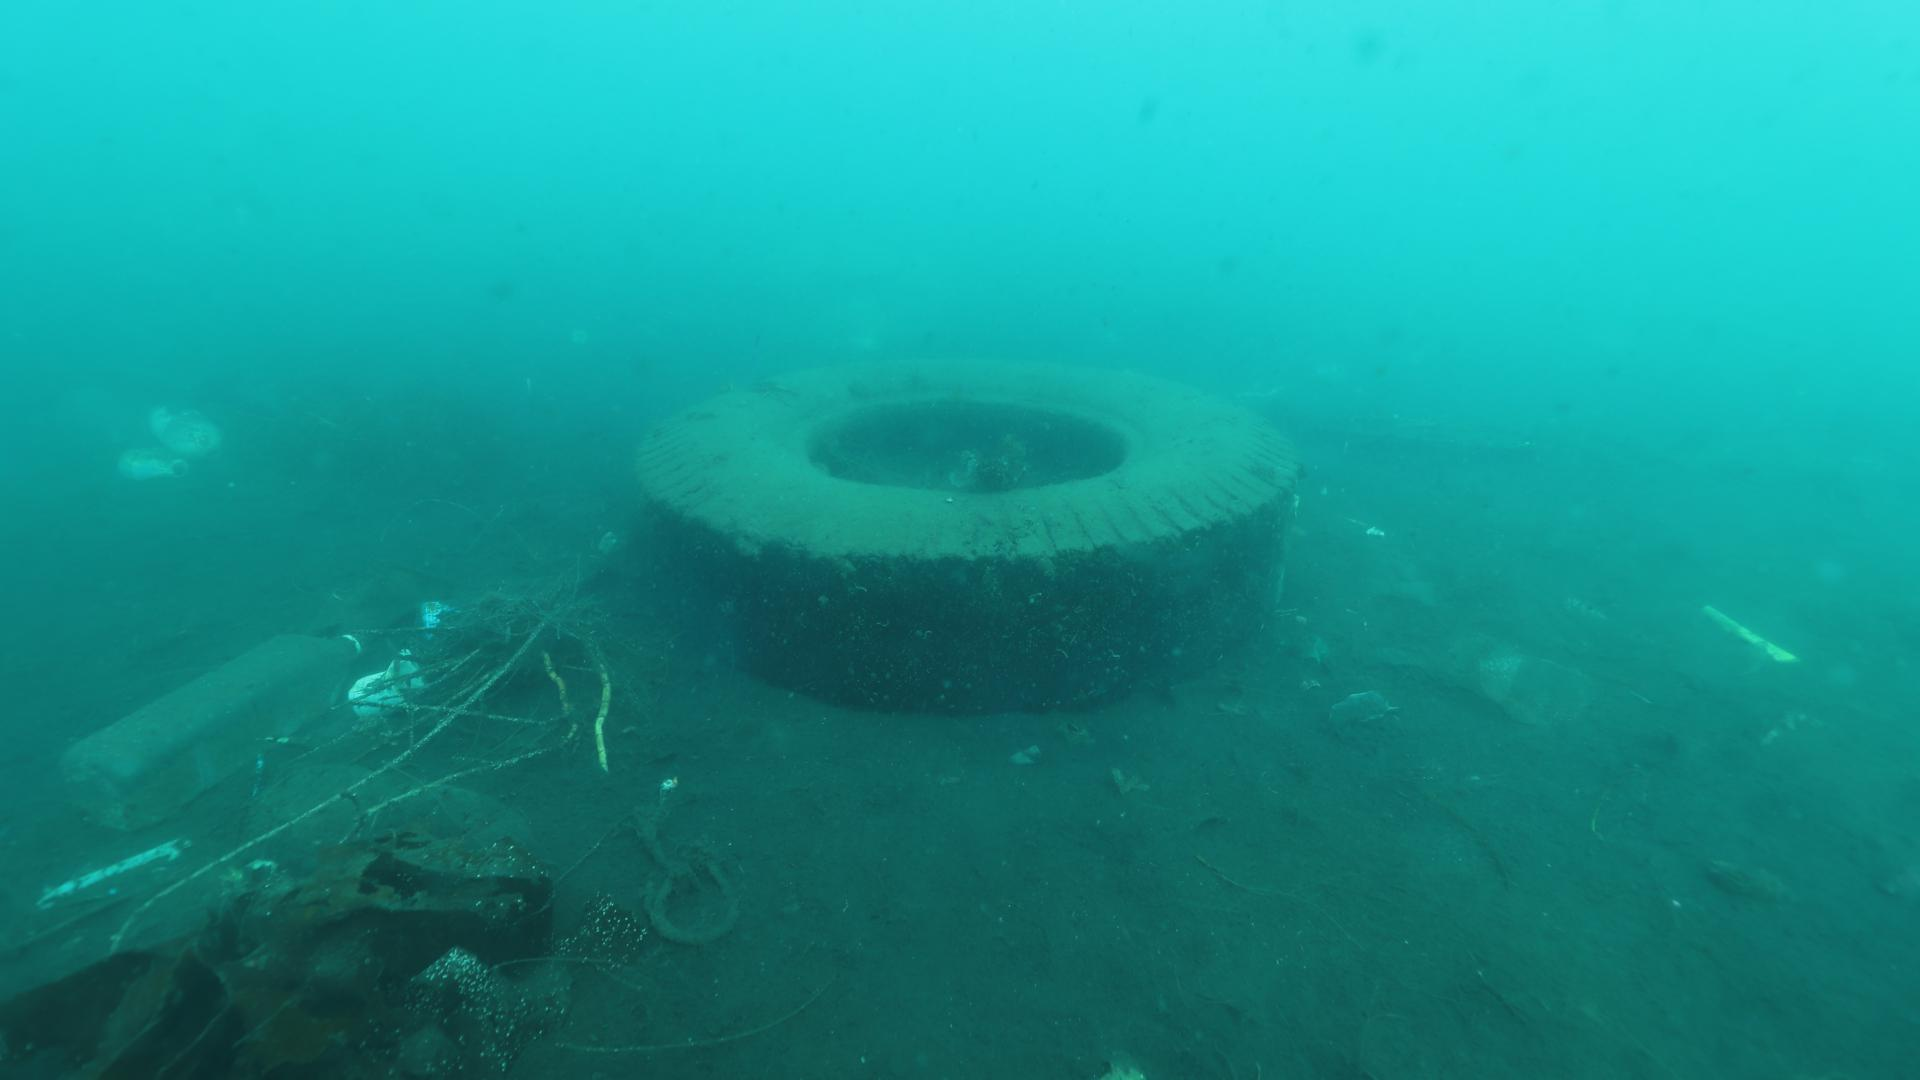tire: (630, 347, 1298, 719)
